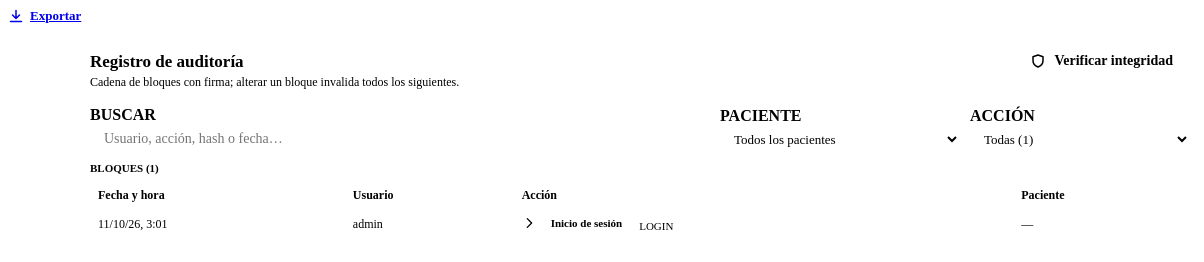
Test: F2 (16) › un 404 del servidor muestra su detalle
Expected: the text "Inicio de sesión" is shown, [551, 217, 622, 229]
Select "Luis Gil · H-8" in the dropdown labelled "Paciente": (840, 140) [720, 131, 960, 148]
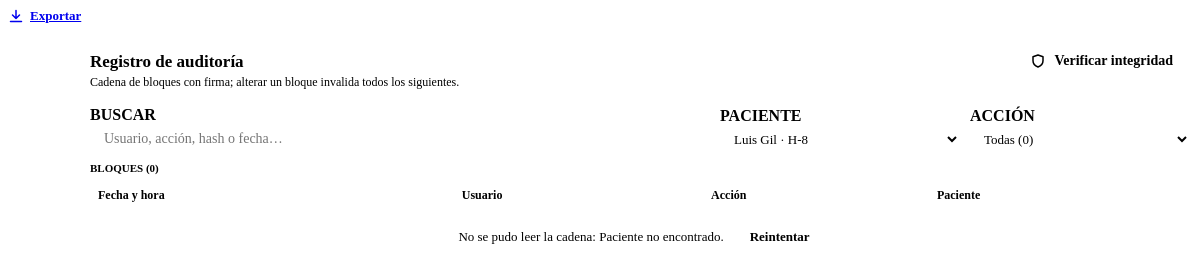
Now the text "No se pudo leer la cadena: Paciente no encontrado." is shown, box [458, 229, 724, 245]
